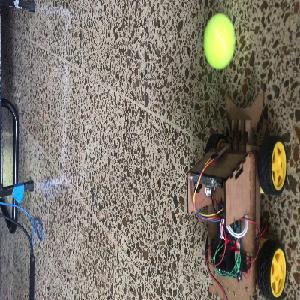Ball: (202, 14, 236, 69)
Robot: (185, 89, 287, 298)
